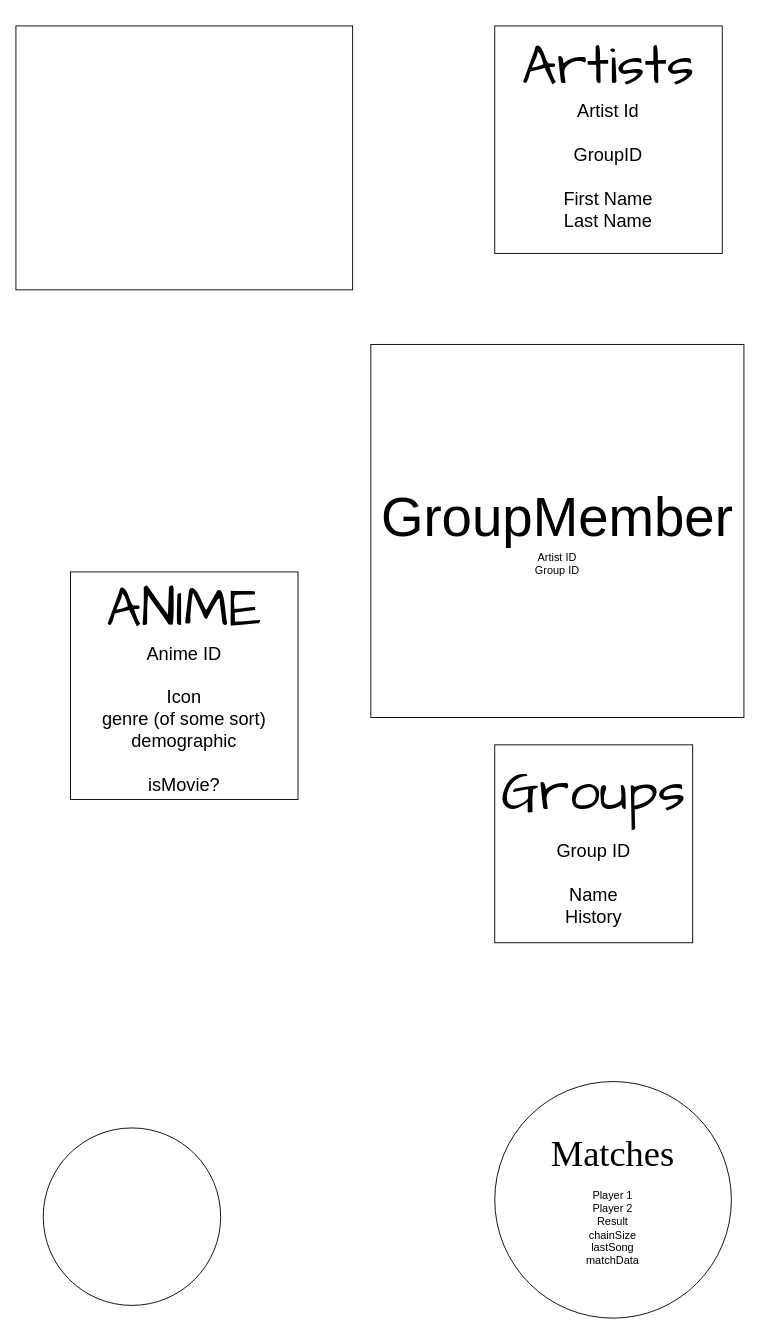
This 760x1334 diagram has some shape labels left out. The centre of each missing label's shape, as x and y in pixels:
"Player Username Password? rank(elo) profile picture" goes at point (131, 1216).
"Songs Song ID Artist Id Group ID Anime ID openingNumber endingNumber" goes at point (184, 157).
